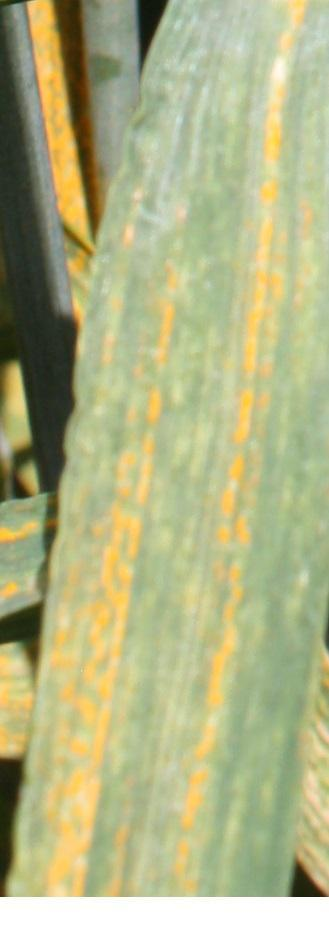Wheat: (123, 68, 310, 890), (21, 482, 143, 892)
